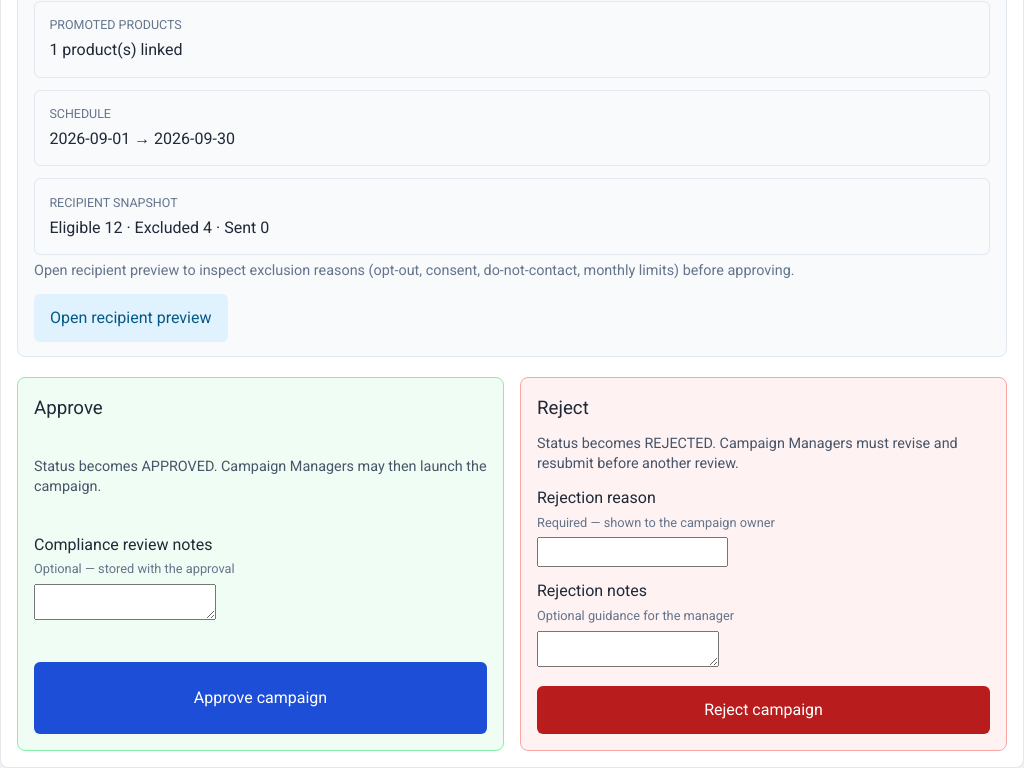
Scenario: CompliancePage (item 593) › requires rejection reason before rejecting a campaign
(page scrolled)
Step 1. Click the button "Reject campaign" → (764, 710), box x1=537 y1=686 x2=990 y2=734
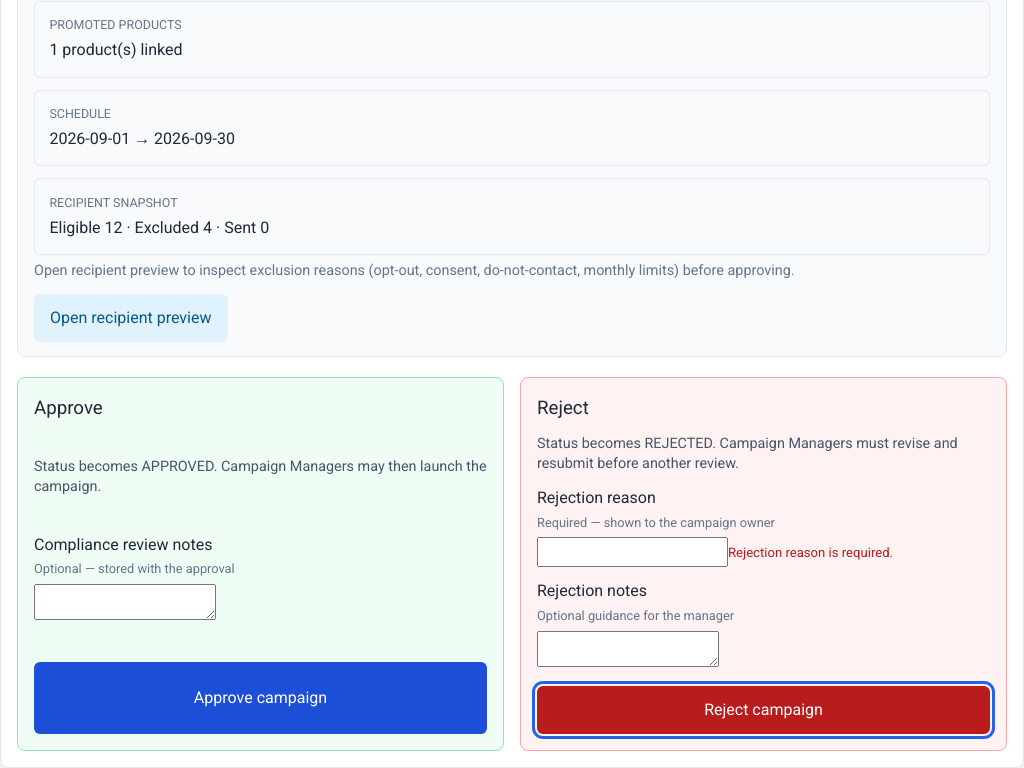
Check: the text "Rejection reason is required." is shown, box x1=728 y1=546 x2=893 y2=560
